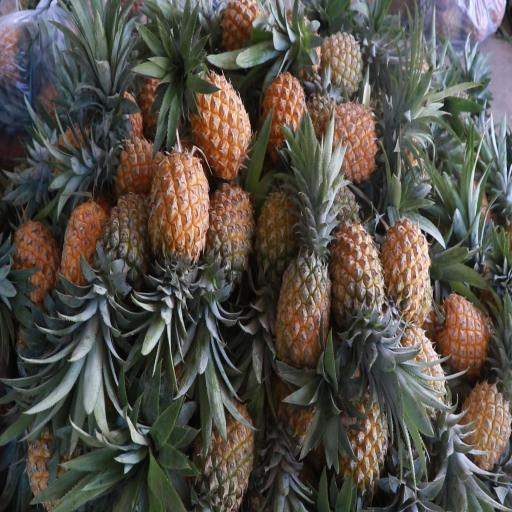------------------------------: (271, 235, 334, 375), (193, 383, 256, 512), (98, 187, 156, 291), (251, 174, 300, 289), (313, 21, 365, 100)
Pineapple - v8 v1: (147, 136, 214, 270), (186, 65, 252, 189), (327, 208, 386, 326), (376, 206, 432, 327), (333, 372, 393, 484), (202, 162, 256, 281), (313, 94, 383, 184), (97, 132, 172, 207), (259, 60, 312, 165), (61, 195, 110, 303), (434, 283, 493, 372), (5, 217, 59, 312), (459, 374, 512, 468)
